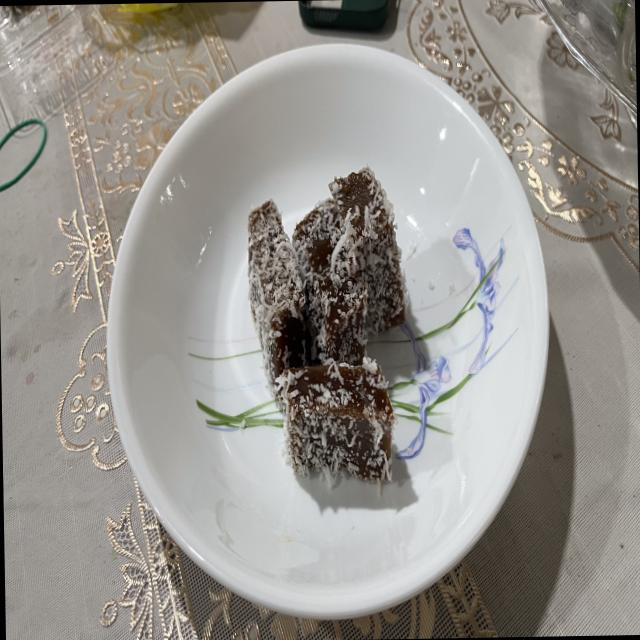kaswi: (275, 357, 394, 487), (329, 168, 406, 332), (292, 198, 367, 364), (247, 199, 306, 392)
